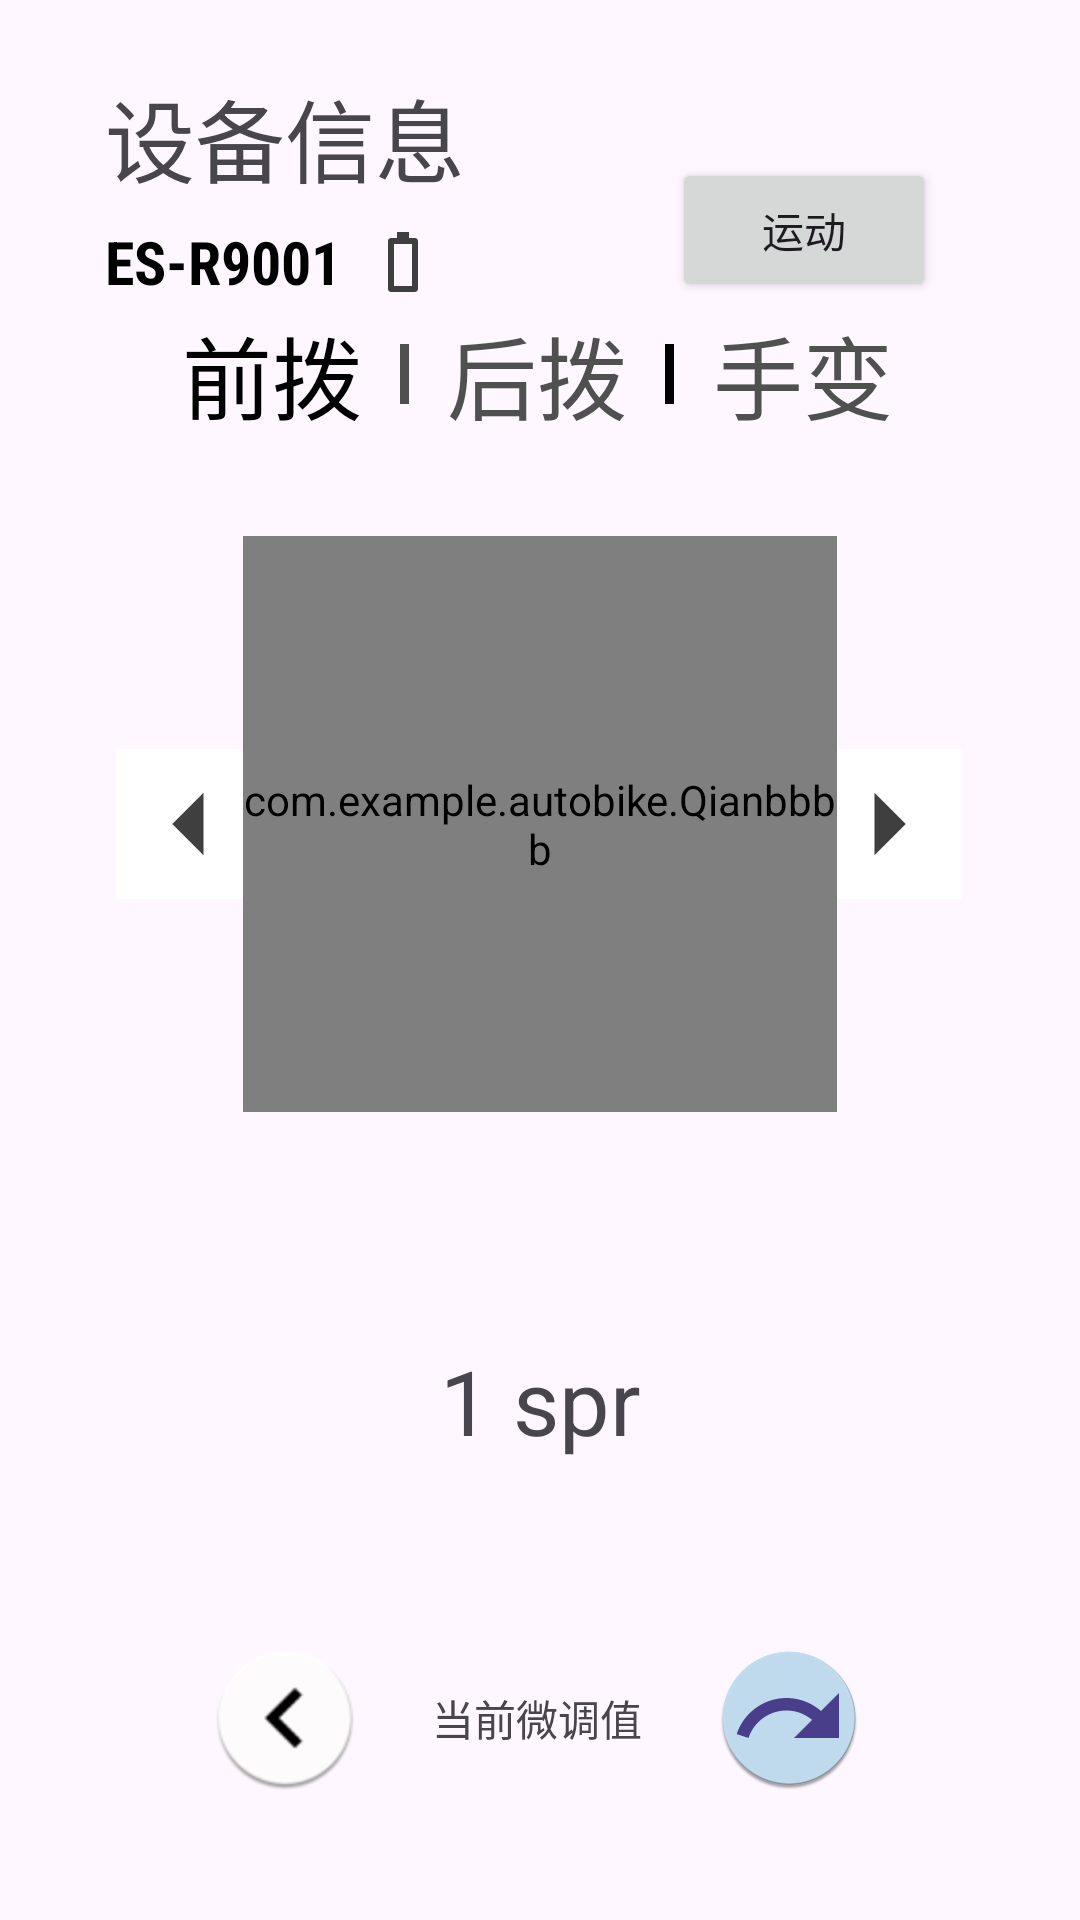

Point at icon controls on the screen. Image size 1080*1920, points as (x,y).
减小微调值: (286,1738)
当前电量: (403,262)
